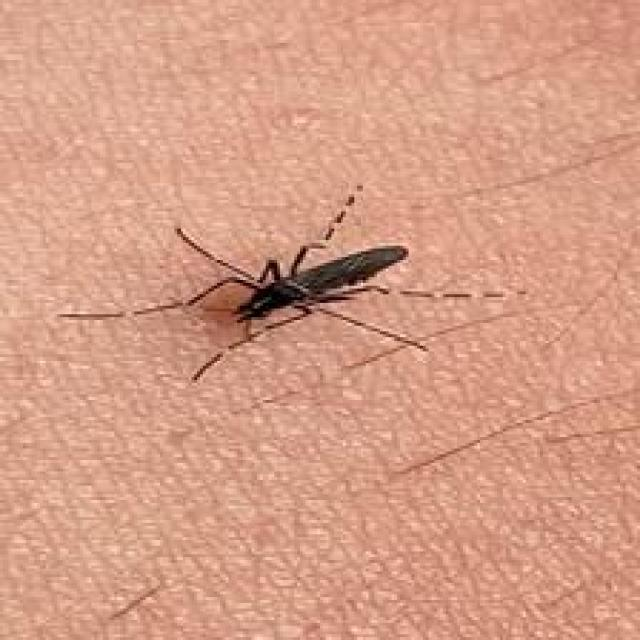Aedes albopictus: (58, 183, 436, 386)
